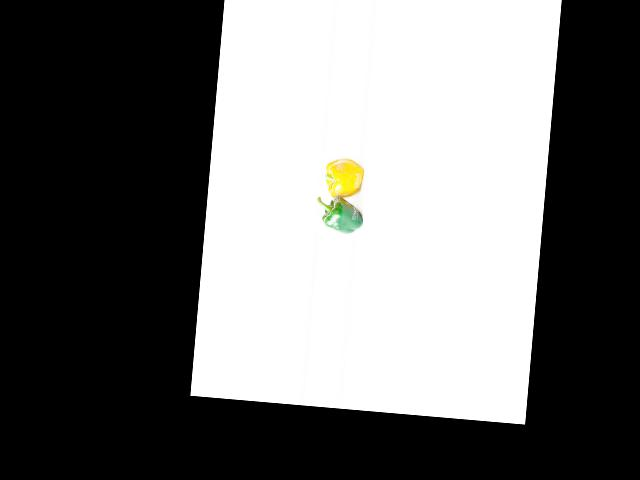bell_pepper: (317, 196, 370, 238)
